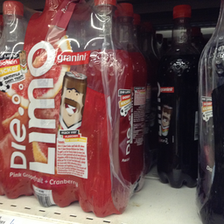soda: (78, 1, 135, 216), (27, 1, 79, 208), (157, 3, 199, 187)
